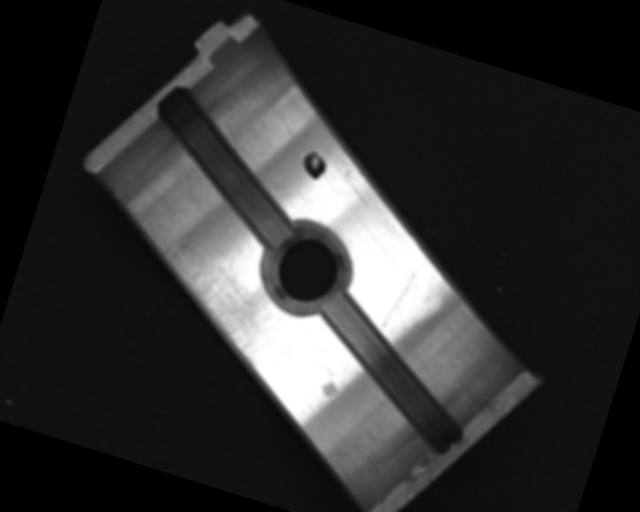blot: (298, 147, 331, 183)
bruise: (317, 377, 342, 401)
gap: (291, 286, 493, 459), (128, 83, 326, 253)
hole: (249, 211, 364, 327)
nick: (381, 265, 419, 333)
scratch: (124, 230, 288, 371)
